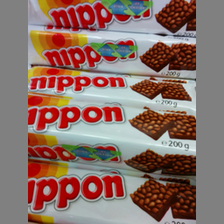chocolate: (28, 94, 196, 176), (29, 163, 194, 224), (29, 25, 197, 78), (28, 64, 196, 110), (28, 1, 196, 37)
